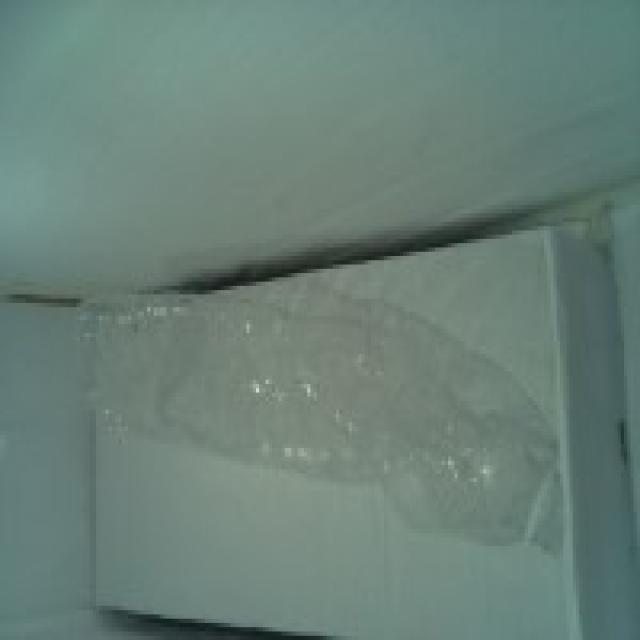Anorganik: (70, 269, 573, 559)
